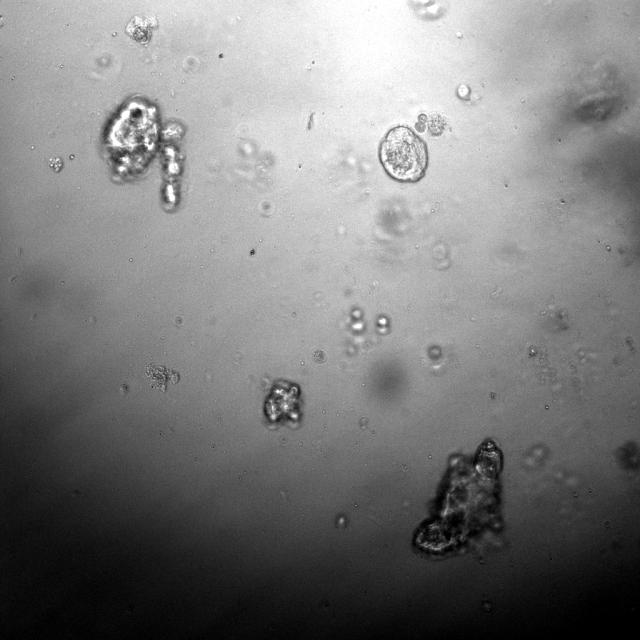organoid: (411, 438, 504, 559), (101, 95, 186, 212), (378, 125, 428, 182), (263, 379, 301, 428), (125, 13, 158, 45), (145, 363, 179, 391), (414, 111, 448, 137), (348, 307, 366, 334), (456, 83, 472, 103), (376, 314, 390, 335), (427, 344, 442, 360), (49, 157, 64, 173), (312, 348, 327, 363)
